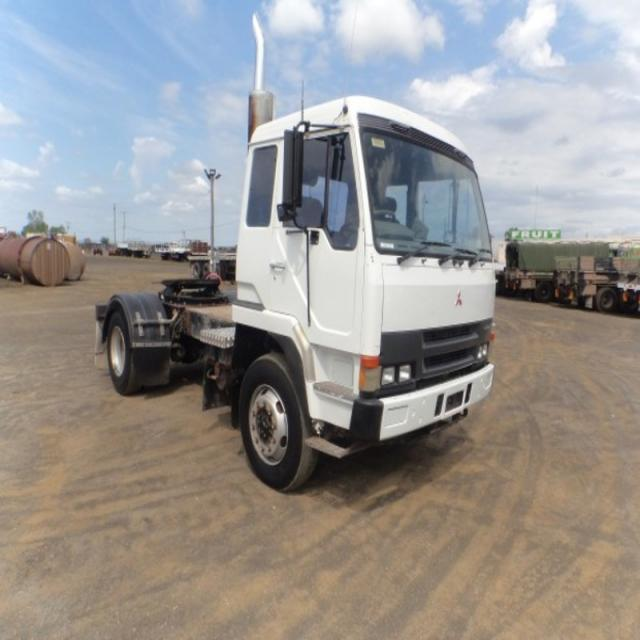truck: (87, 9, 519, 498)
